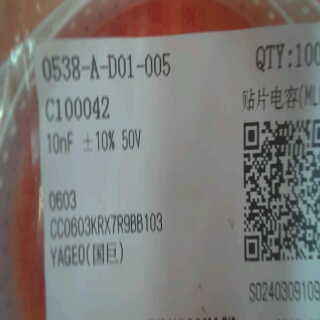10nF: (42, 128, 80, 158)
